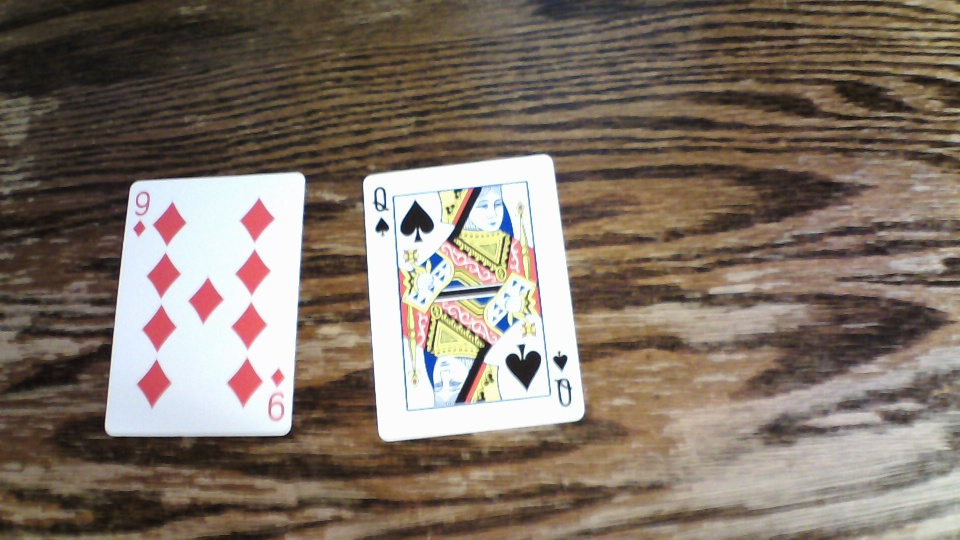nine: (103, 169, 305, 438)
queen: (362, 154, 585, 441)
